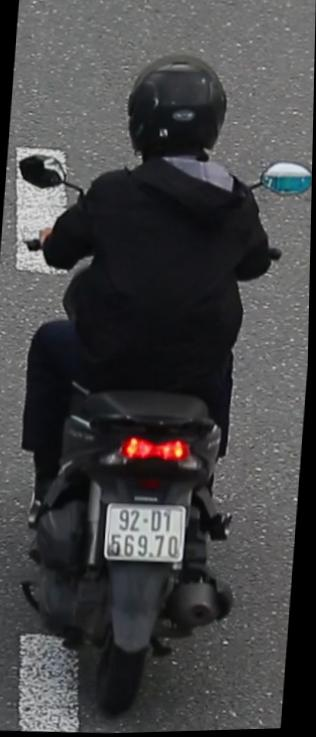LP: (102, 497, 194, 574)
helmet: (119, 40, 235, 183)
